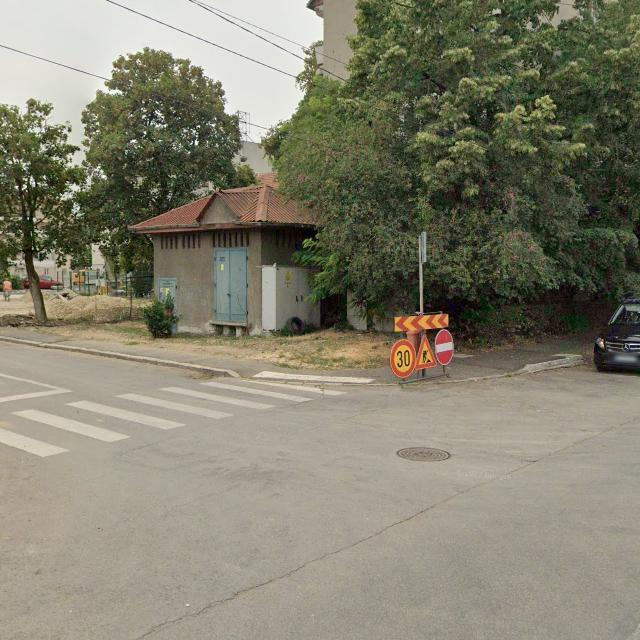forb_speed_over_30: (390, 340, 417, 379)
